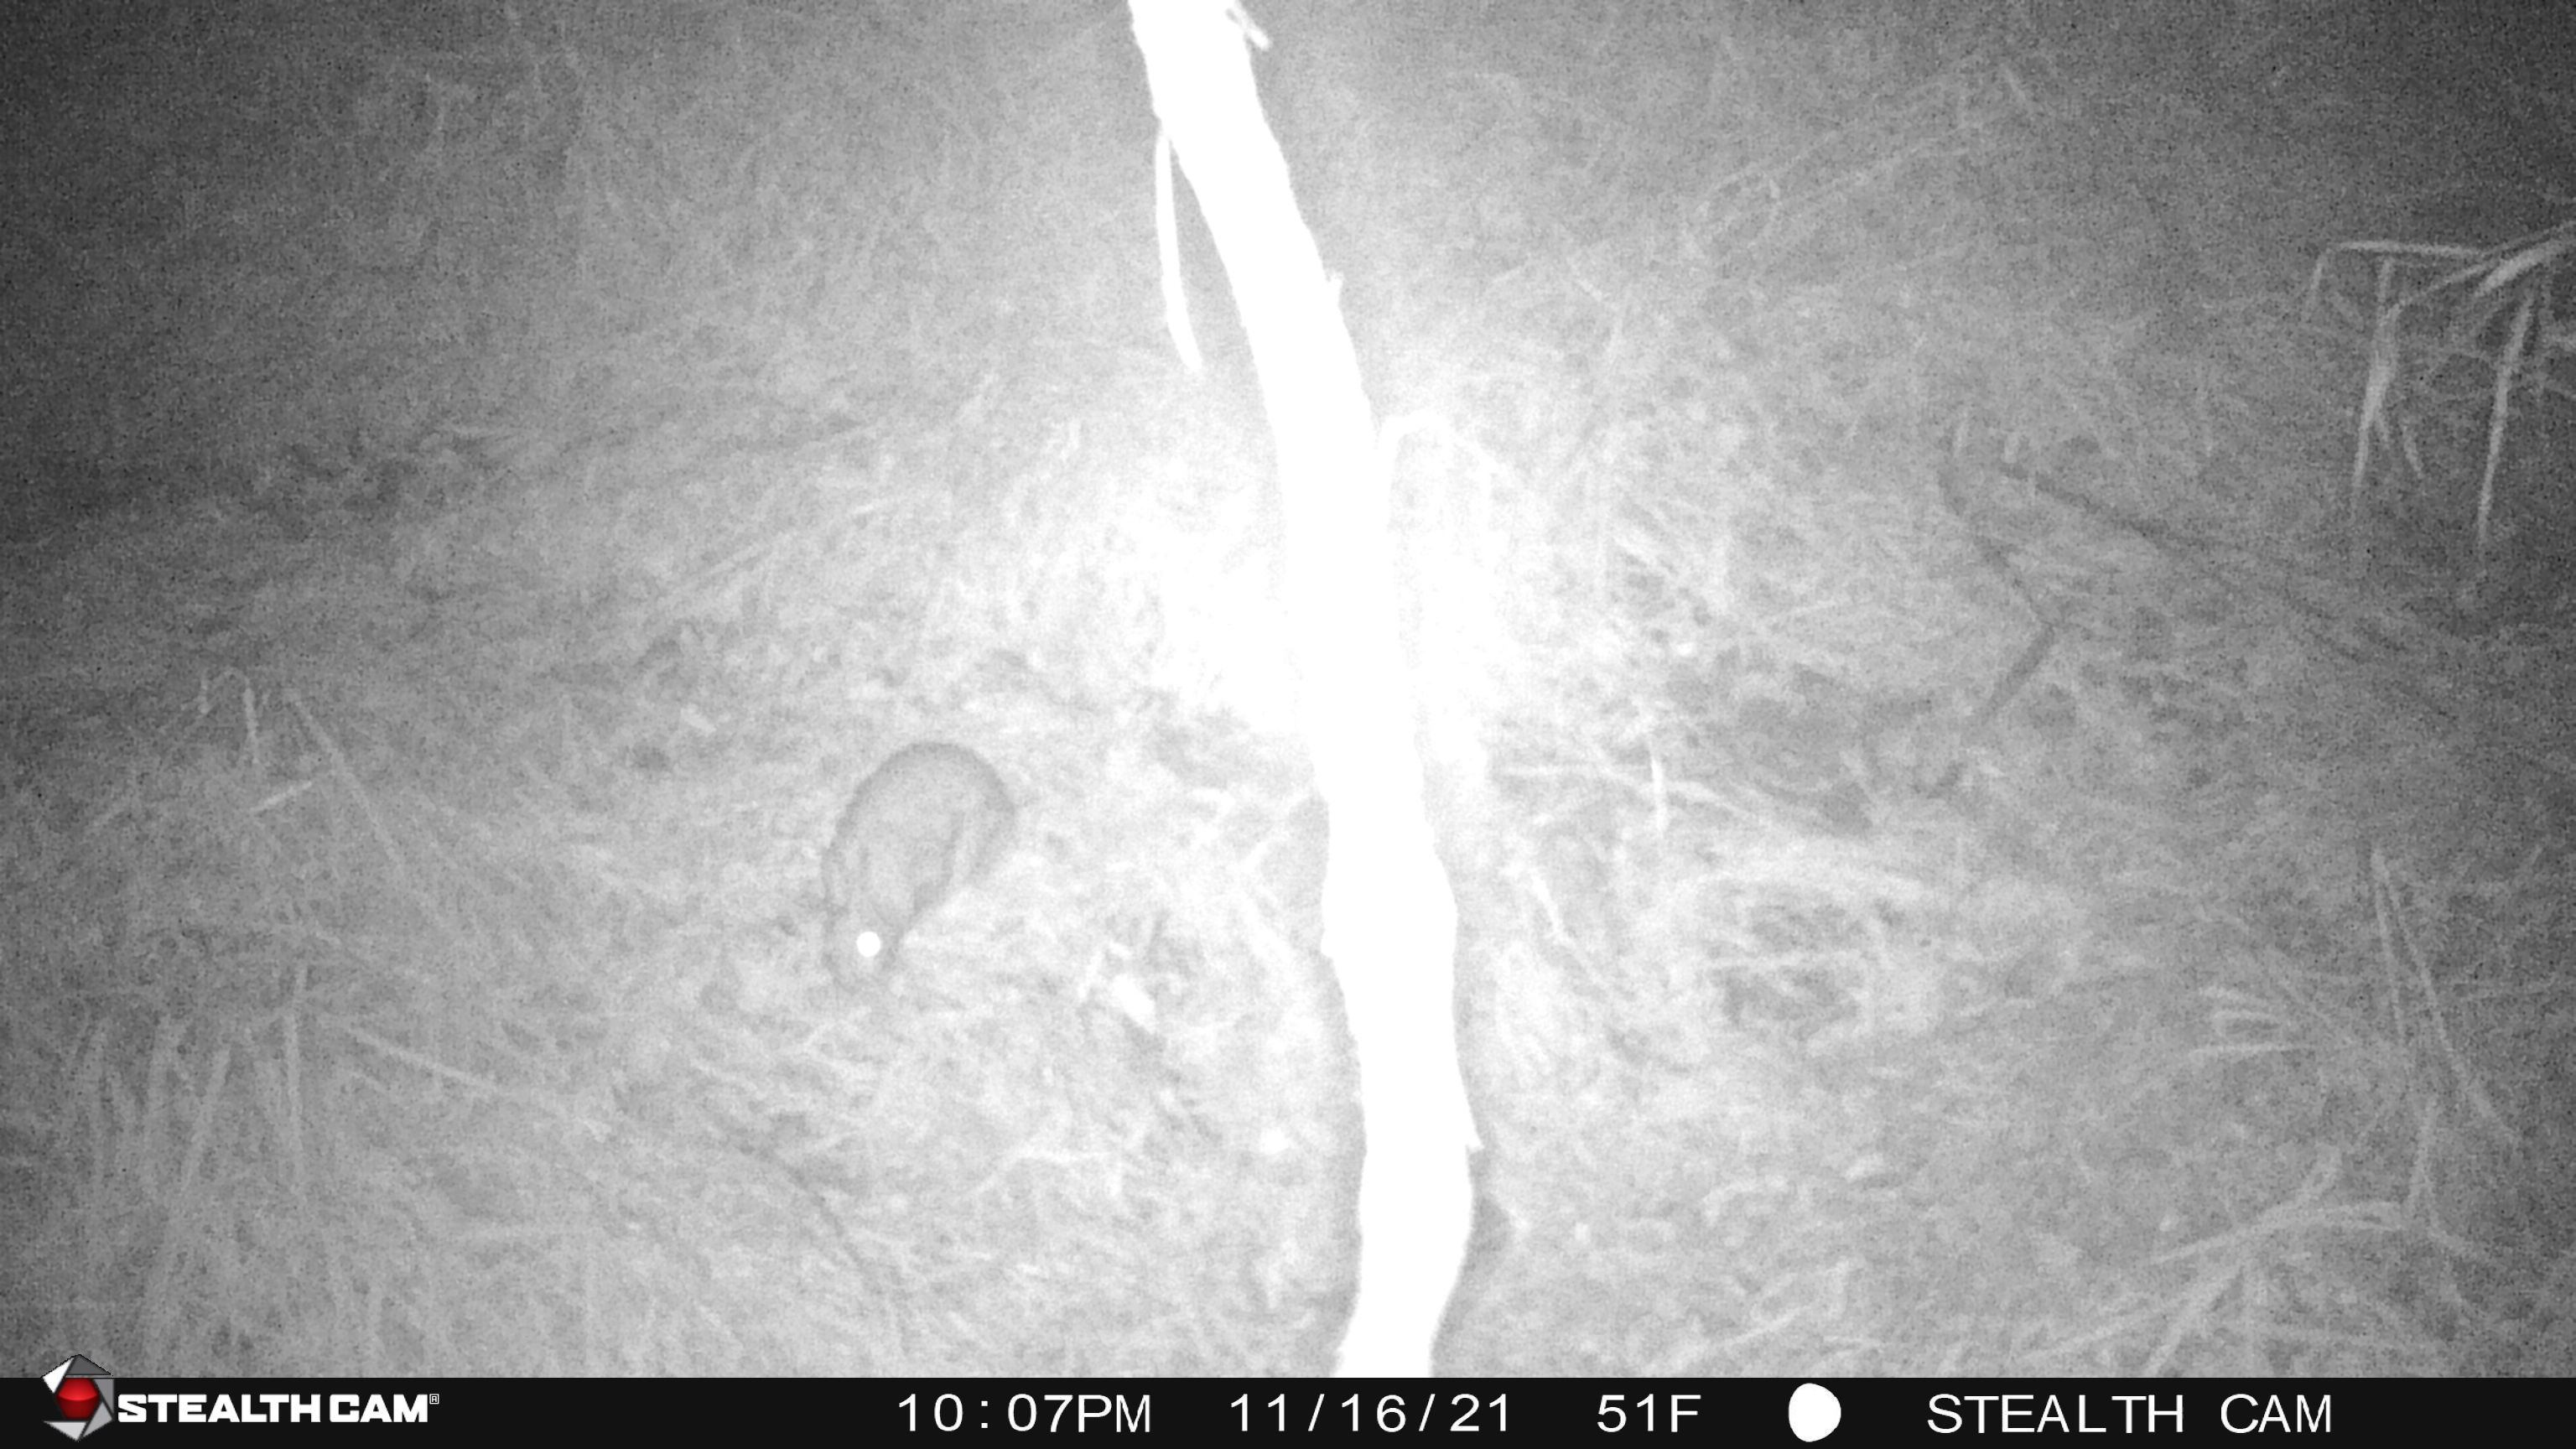Rabbit: (814, 736, 1017, 996)
